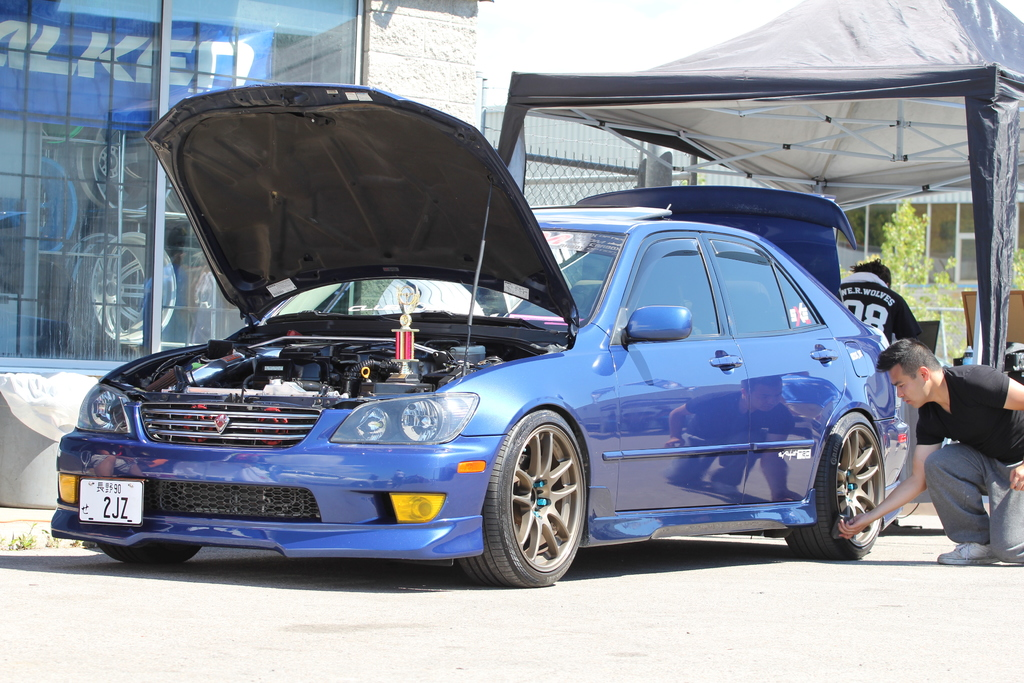Car: (51, 80, 919, 583)
